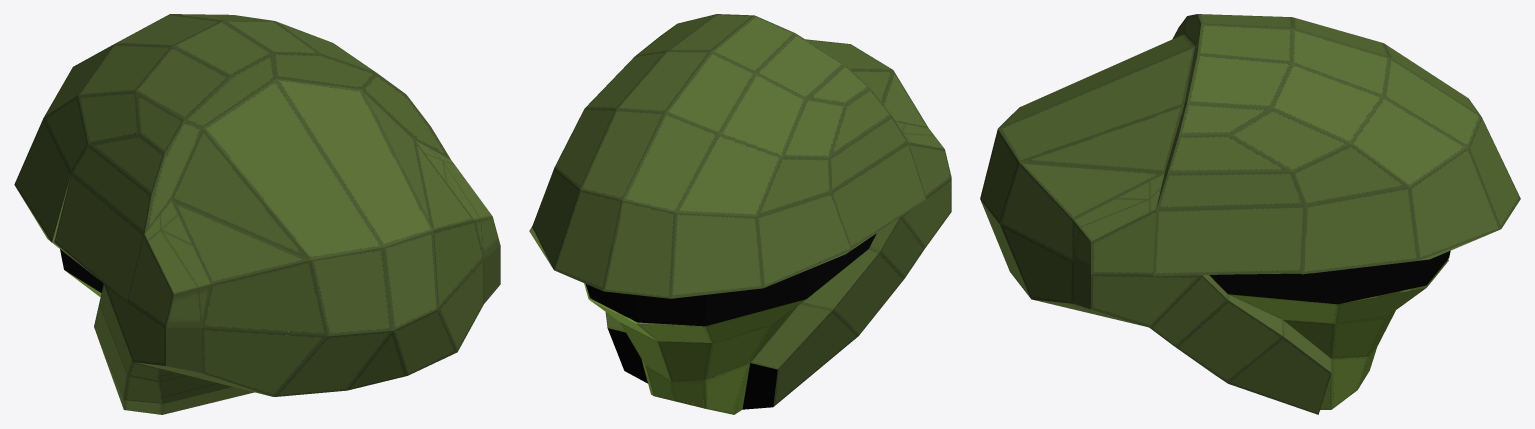
File: Head.fbx
The picture shows the model from 3 angles, left to right: view 1: azimuth 30°, elevation 25°; view 2: azimuth 150°, elevation 25°; view 3: azimuth 270°, elevation 25°; orthographic projection. The views are drawn at different scales.
Parts seen in each view (by area): view 1: Shape_IndexedFaceSet.065, Shape_IndexedFaceSet.064, Shape_IndexedFaceSet.066; view 2: Shape_IndexedFaceSet.065, Shape_IndexedFaceSet.066, Shape_IndexedFaceSet.064, Shape_IndexedFaceSet.063; view 3: Shape_IndexedFaceSet.065, Shape_IndexedFaceSet.066, Shape_IndexedFaceSet.064.
Boxes of the visible parts, <box> form: Shape_IndexedFaceSet.065: <box>14,14,483,414</box>; Shape_IndexedFaceSet.064: <box>16,122,500,414</box>; Shape_IndexedFaceSet.066: <box>60,249,103,292</box>; Shape_IndexedFaceSet.065: <box>532,14,951,414</box>; Shape_IndexedFaceSet.066: <box>585,233,876,326</box>; Shape_IndexedFaceSet.064: <box>529,116,944,369</box>; Shape_IndexedFaceSet.063: <box>607,328,777,409</box>; Shape_IndexedFaceSet.065: <box>980,14,1520,414</box>; Shape_IndexedFaceSet.066: <box>1209,251,1450,304</box>; Shape_IndexedFaceSet.064: <box>1033,129,1495,372</box>.
Size of the model in its own units: 0.2508 by 0.2738 by 0.3685.
